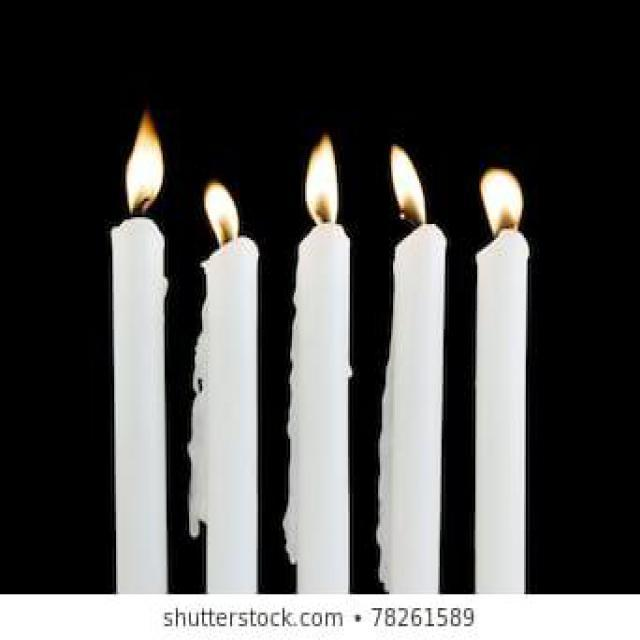Fire: (125, 110, 163, 217), (304, 134, 338, 223), (480, 170, 523, 234), (390, 143, 424, 223), (206, 183, 238, 244)
